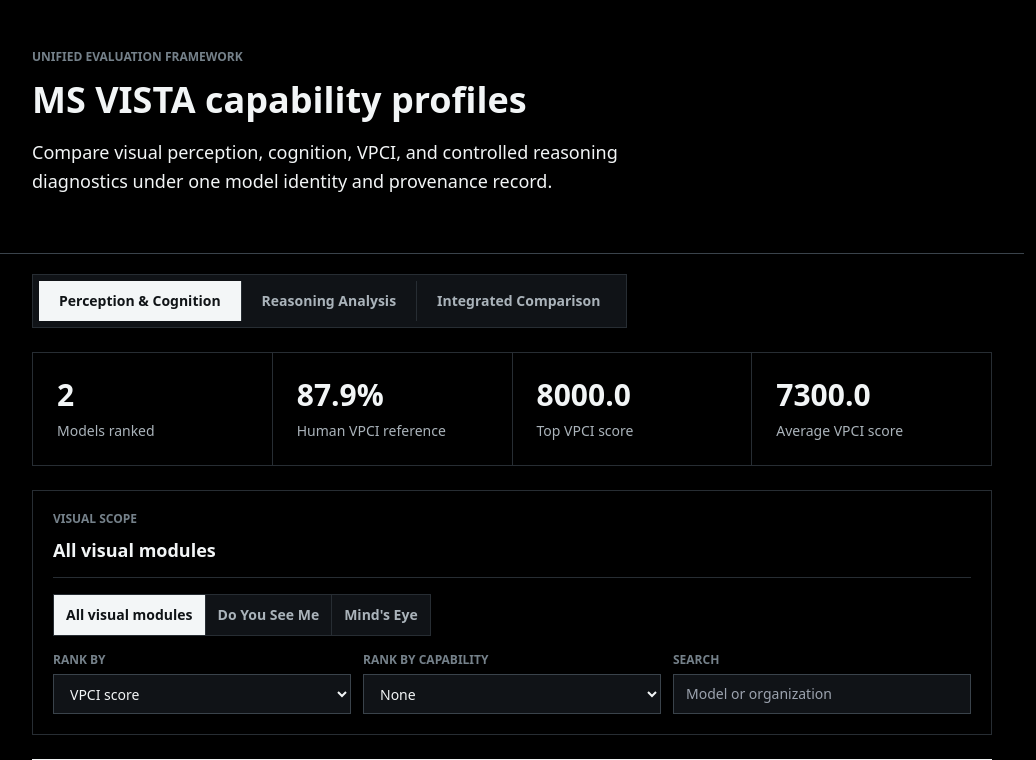
Test: leaderboard filter contracts › shows public evidence in a dedicated compact column
Click the tab "Reasoning Analysis" at point(329, 300), box [242, 280, 417, 320]
(page scrolled)
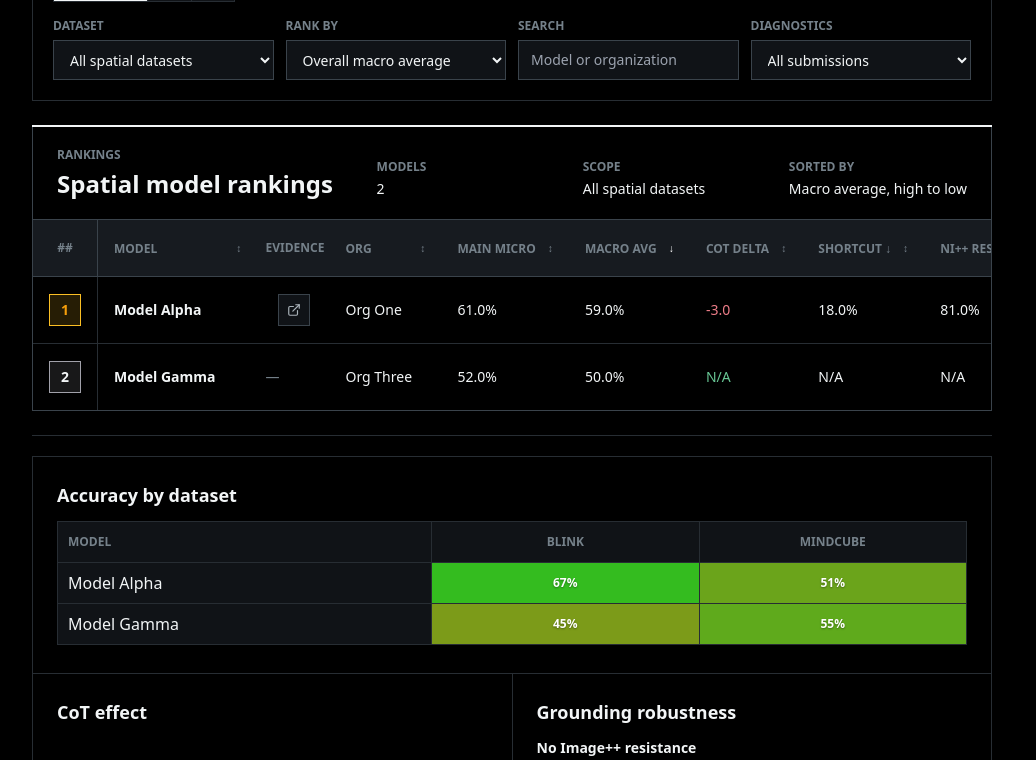
Expected: the text named "No public evidence for Model Gamma" is shown, [266, 367, 280, 386]
